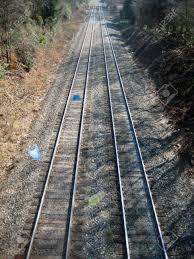Color_steel: (70, 90, 82, 103)
Green_house: (86, 187, 108, 209)
Plastic: (23, 141, 42, 164)
